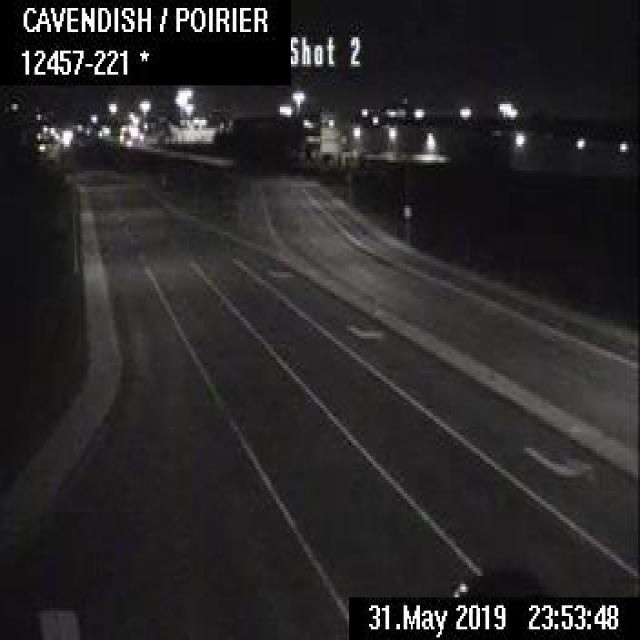vehicle: (449, 565, 542, 595)
